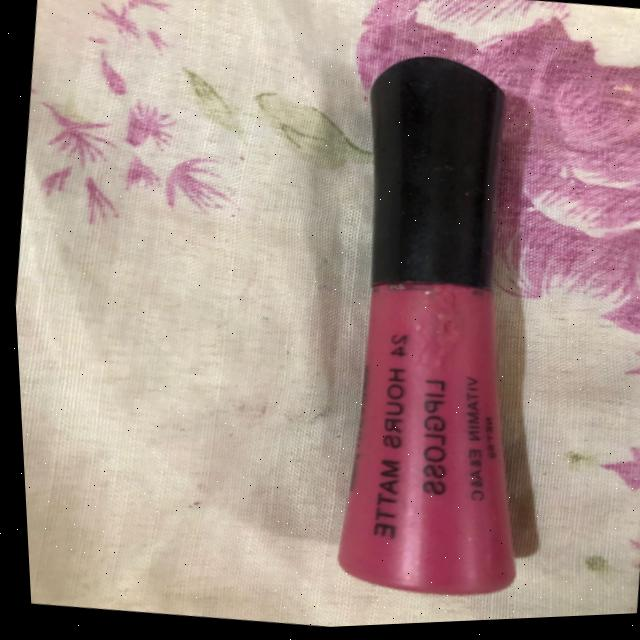lip gloss: (264, 25, 575, 624)
